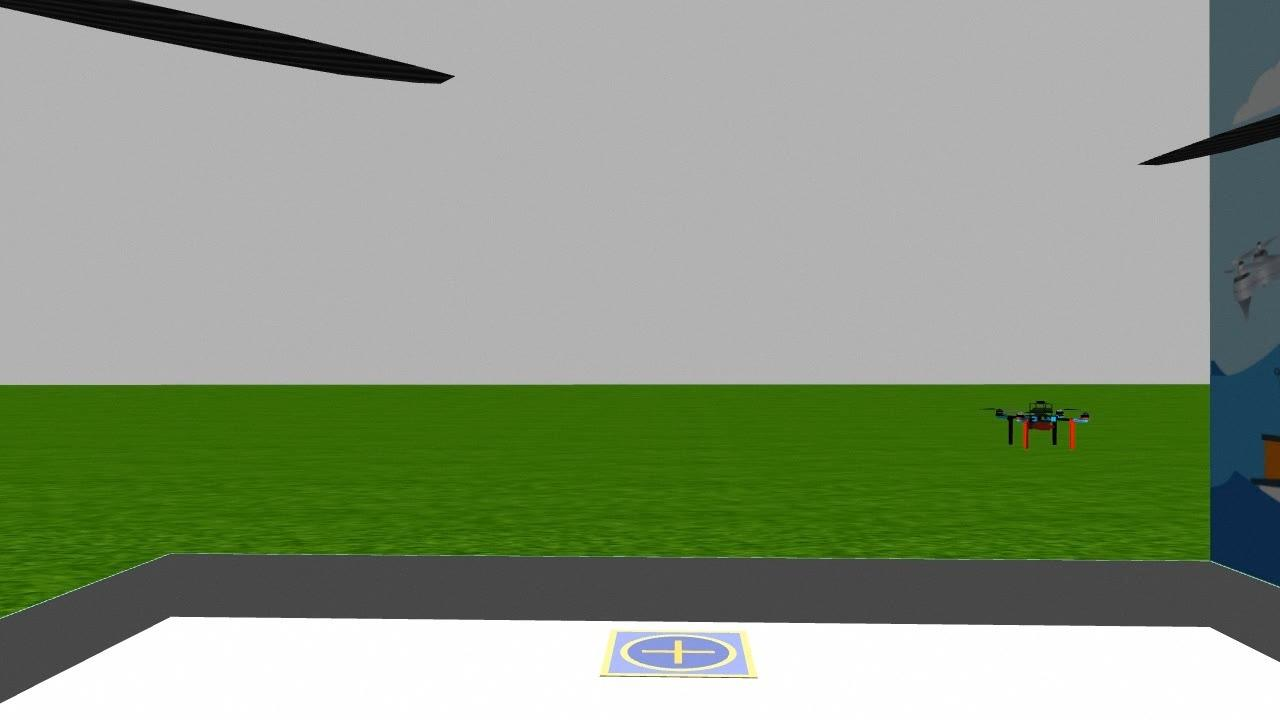UAV: (988, 391, 1096, 463)
